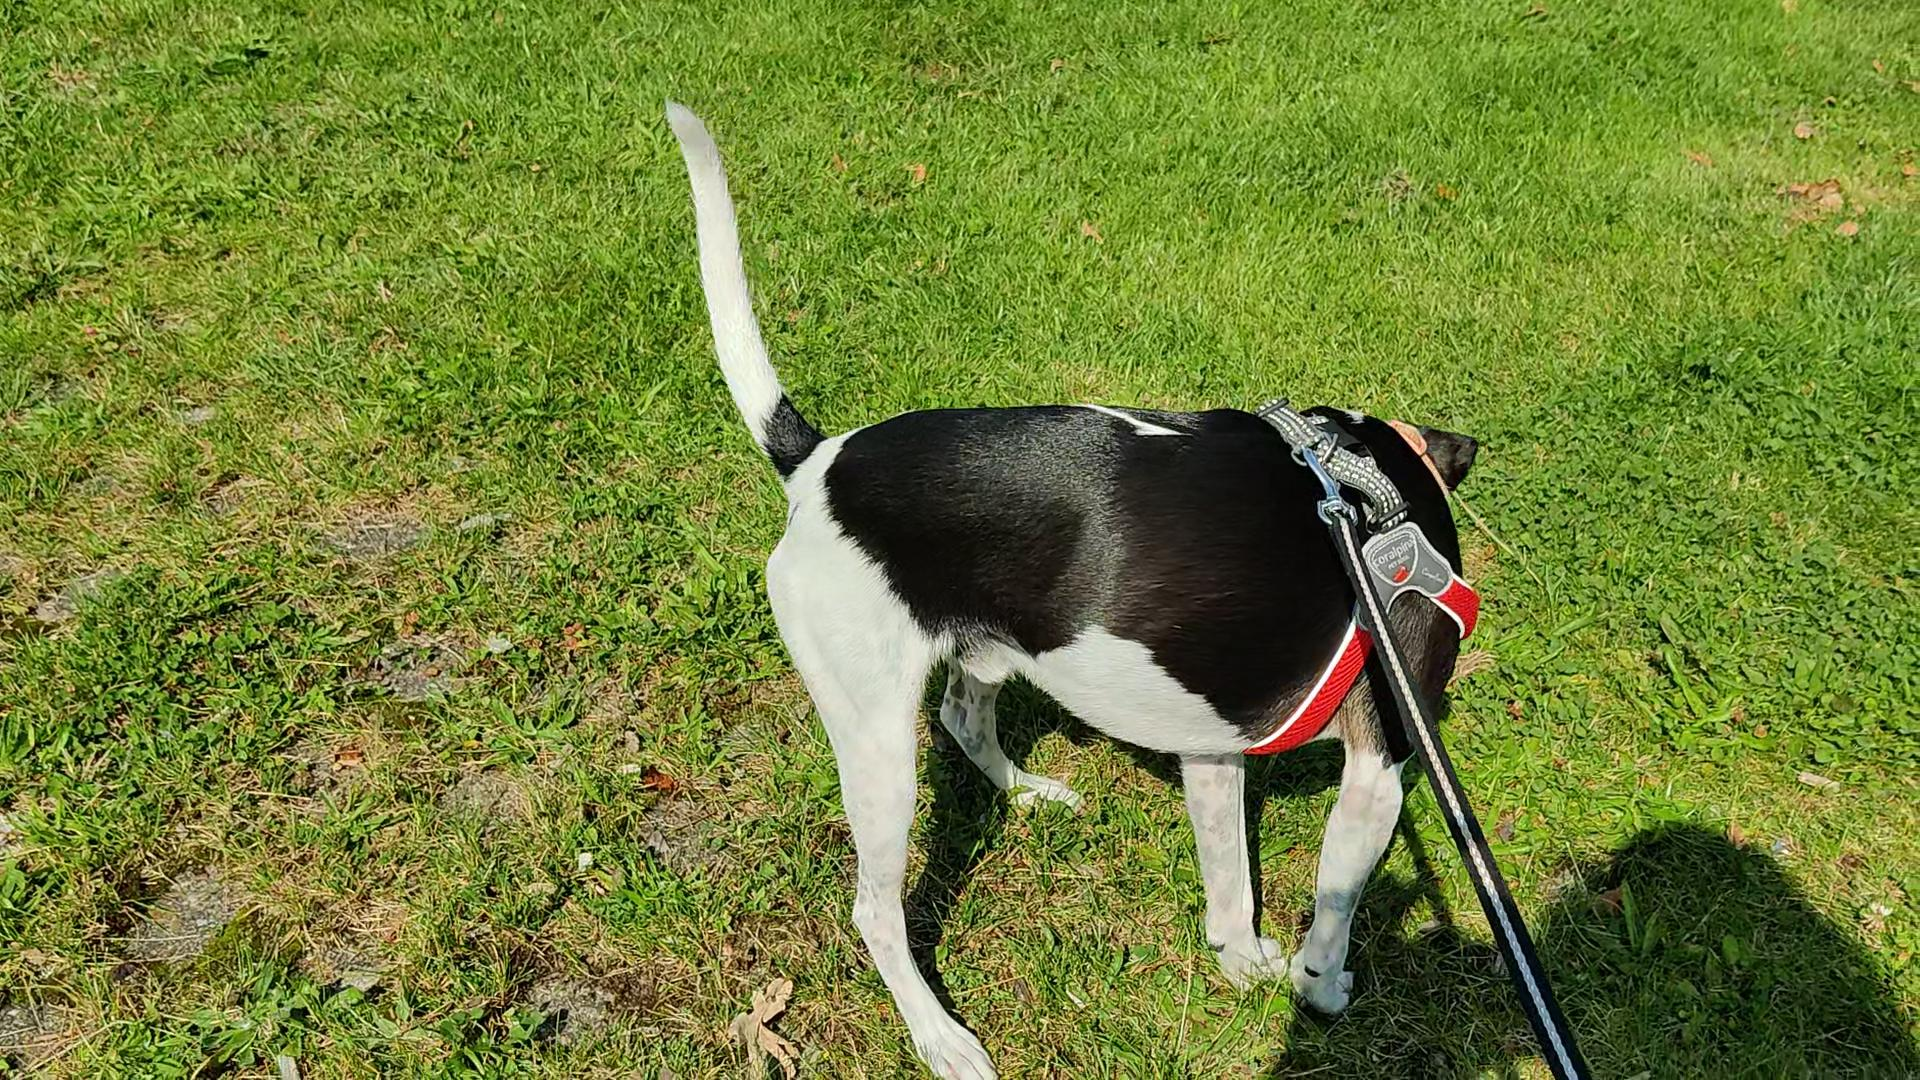Dog: (655, 94, 1510, 1079)
